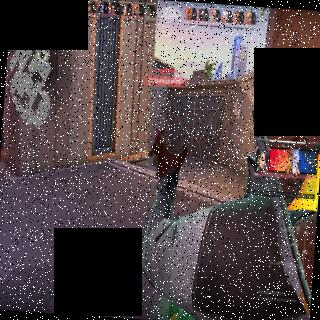ENEMY-HEAD: (154, 124, 158, 132)
